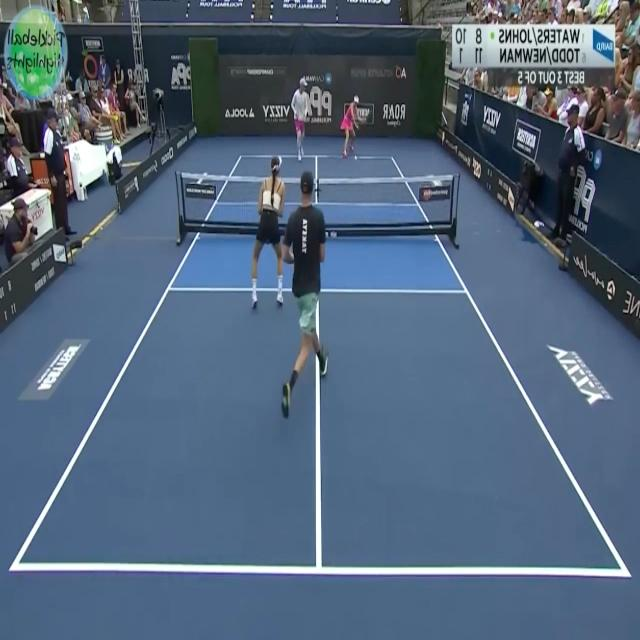Pickleball: (354, 151, 358, 165)
